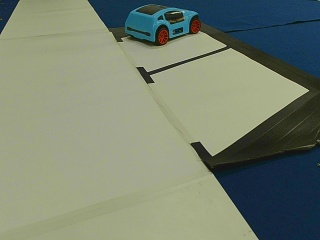car: (124, 5, 200, 45)
